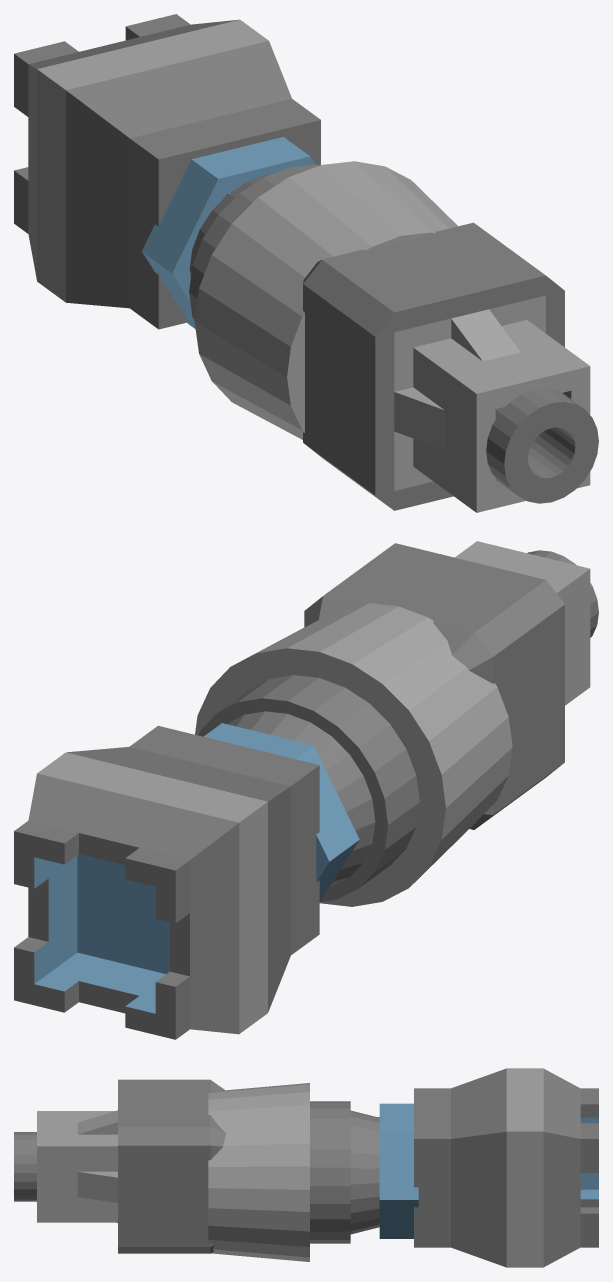
File: Blaster.fbx
3 renders of one model, top to bottom at view 1: azimuth 30°, elevation 25°; view 2: azimuth 150°, elevation 25°; view 3: azimuth 270°, elevation 25°, orthographic. The views are drawn at different scales.
Visible parts, largest first — view 1: Blaster; view 2: Blaster; view 3: Blaster.
Part boxes in pixels (x1,y1,x2,y2): Blaster: [14, 14, 598, 512]; Blaster: [14, 541, 598, 1039]; Blaster: [14, 1068, 598, 1267].
Size of the model in its own units: 81 by 76.98 by 253.
